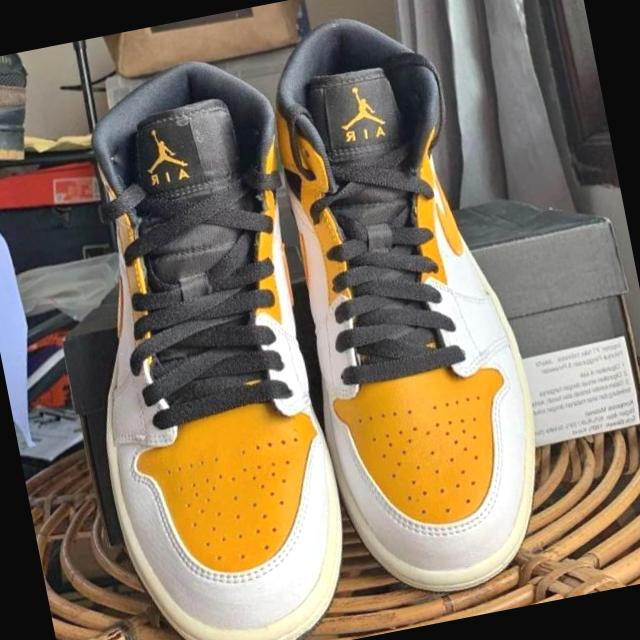nike_original_jordan: (32, 43, 379, 640), (260, 0, 564, 609)
